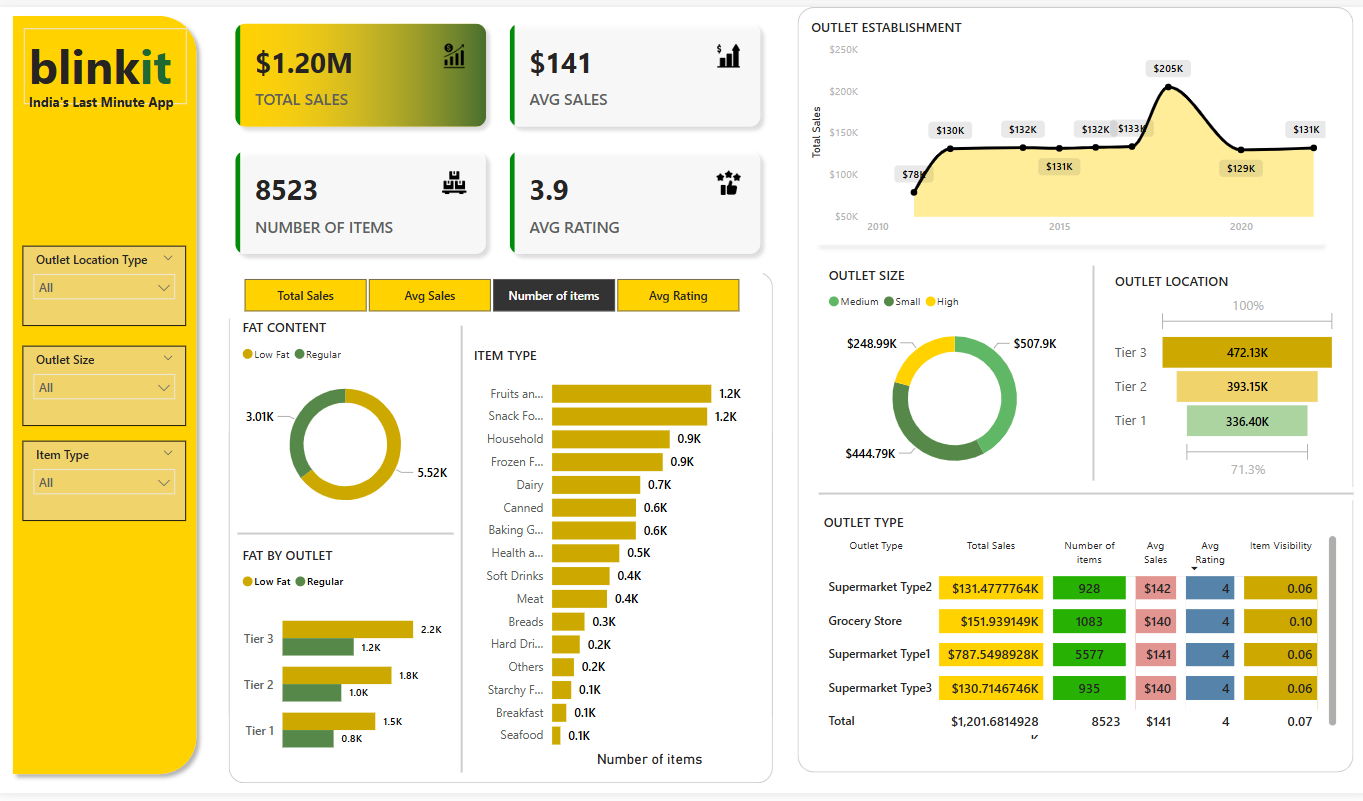

This screenshot's page, from the dashboard's own definition file:
{"tool":"powerbi","page":{"name":"Page 1","canvas":[1400,800],"ordinal":0},"visuals":[{"type":"shape","box":[9.4,0,205.1,789.5],"z":0},{"type":"textbox","box":[29.5,21.4,164.9,77.7],"z":1000},{"type":"textbox","box":[29.5,83.1,176.9,33.5],"z":2000},{"type":"cardVisual","fields":{"Data":["Sheet1.Total Sales","Sheet1.Avg Sales","Sheet1.Number of items","Sheet1.Avg Rating"]},"box":[227.9,0,569.7,269.4],"z":3000},{"type":"shape","box":[237.3,269.4,553.6,520.1],"z":4000},{"type":"donutChart","title":" FAT CONTENT","fields":{"Y":["Sheet1.Number of items"],"Category":["Sheet1.Item Fat Content"]},"box":[246.7,316.4,219.8,211.8],"z":5000},{"type":"slicer","fields":{"Values":["Metrics.Metrics"]},"box":[227.9,269.4,553.6,46.9],"z":6000},{"type":"clusteredBarChart","title":"FAT BY OUTLET","fields":{"Y":["Sheet1.Number of items"],"Category":["Sheet1.Outlet Location Type"],"Series":["Sheet1.Item Fat Content"]},"box":[246.7,548.3,219.8,230.6],"z":7000},{"type":"shape","box":[246.7,529.5,219.8,13.4],"z":8000},{"type":"shape","box":[466.5,324.4,16.1,454.4],"z":9000},{"type":"barChart","title":"ITEM TYPE","fields":{"Y":["Sheet1.Number of items"],"Category":["Sheet1.Item Type"]},"box":[482.6,344.5,288.2,434.3],"z":10000},{"type":"shape","box":[816.4,0,565.7,778.8],"z":11000},{"type":"lineChart","title":"OUTLET ESTABLISHMENT","fields":{"Y":["Sheet1.Total Sales"],"Category":["Sheet1.Outlet Establishment Year"]},"box":[825.7,12.1,533.5,229.2],"z":12000},{"type":"shape","box":[825.7,225.2,533.5,30.8],"z":13000},{"type":"donutChart","title":"OUTLET SIZE","fields":{"Y":["Sheet1.Total Sales"],"Category":["Sheet1.Outlet Size"]},"box":[843.2,262.7,266.8,225.2],"z":14000},{"type":"shape","box":[1109.9,262.7,14.7,218.5],"z":15000},{"type":"funnel","title":"OUTLET LOCATION ","fields":{"Y":["Sum(Sheet1.Sales)"],"Category":["Sheet1.Outlet Location Type"]},"box":[1134.1,269.4,235.9,215.8],"z":16000},{"type":"shape","box":[837.8,487.9,544.2,13.4],"z":17000},{"type":"pivotTable","title":"OUTLET TYPE","fields":{"Rows":["Sheet1.Outlet Type"],"Values":["Sheet1.Total Sales","Sheet1.Number of items","Sheet1.Avg Sales","Sheet1.Avg Rating","Avg(Sheet1.Item Visibility)"]},"box":[837.8,514.7,532.2,234.6],"z":18000},{"type":"slicer","fields":{"Values":["Sheet1.Outlet Location Type"]},"box":[28.2,242.6,166.2,81.8],"z":19000},{"type":"slicer","fields":{"Values":["Sheet1.Outlet Size"]},"box":[28.2,344.5,166.2,81.8],"z":20000},{"type":"slicer","fields":{"Values":["Sheet1.Item Type"]},"box":[28.2,441,166.2,81.8],"z":20001}]}

Visuals, with their boxes in screenshot pixels (x1, y1, x2, y2), scaled from the page's 1400x800 canvas onto the 1363x801 screenshot:
shape: bbox=(9, 0, 209, 790)
textbox: bbox=(29, 21, 189, 99)
textbox: bbox=(29, 83, 201, 117)
cardVisual - Sheet1.Total Sales x Sheet1.Avg Sales: bbox=(222, 0, 777, 270)
shape: bbox=(231, 270, 770, 790)
" FAT CONTENT" donutChart: bbox=(240, 317, 454, 529)
slicer - Metrics.Metrics: bbox=(222, 270, 761, 317)
"FAT BY OUTLET" clusteredBarChart: bbox=(240, 549, 454, 780)
shape: bbox=(240, 530, 454, 544)
shape: bbox=(454, 325, 470, 780)
"ITEM TYPE" barChart: bbox=(470, 345, 750, 780)
shape: bbox=(795, 0, 1346, 780)
"OUTLET ESTABLISHMENT" lineChart: bbox=(804, 12, 1323, 242)
shape: bbox=(804, 225, 1323, 256)
"OUTLET SIZE" donutChart: bbox=(821, 263, 1081, 489)
shape: bbox=(1081, 263, 1095, 482)
"OUTLET LOCATION " funnel: bbox=(1104, 270, 1334, 486)
shape: bbox=(816, 489, 1345, 502)
"OUTLET TYPE" pivotTable: bbox=(816, 515, 1334, 750)
slicer - Sheet1.Outlet Location Type: bbox=(27, 243, 189, 325)
slicer - Sheet1.Outlet Size: bbox=(27, 345, 189, 427)
slicer - Sheet1.Item Type: bbox=(27, 442, 189, 523)
